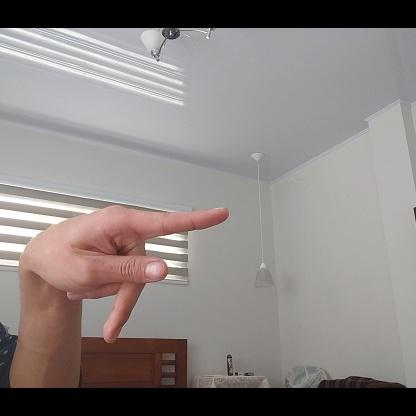P: (26, 206, 229, 344)
